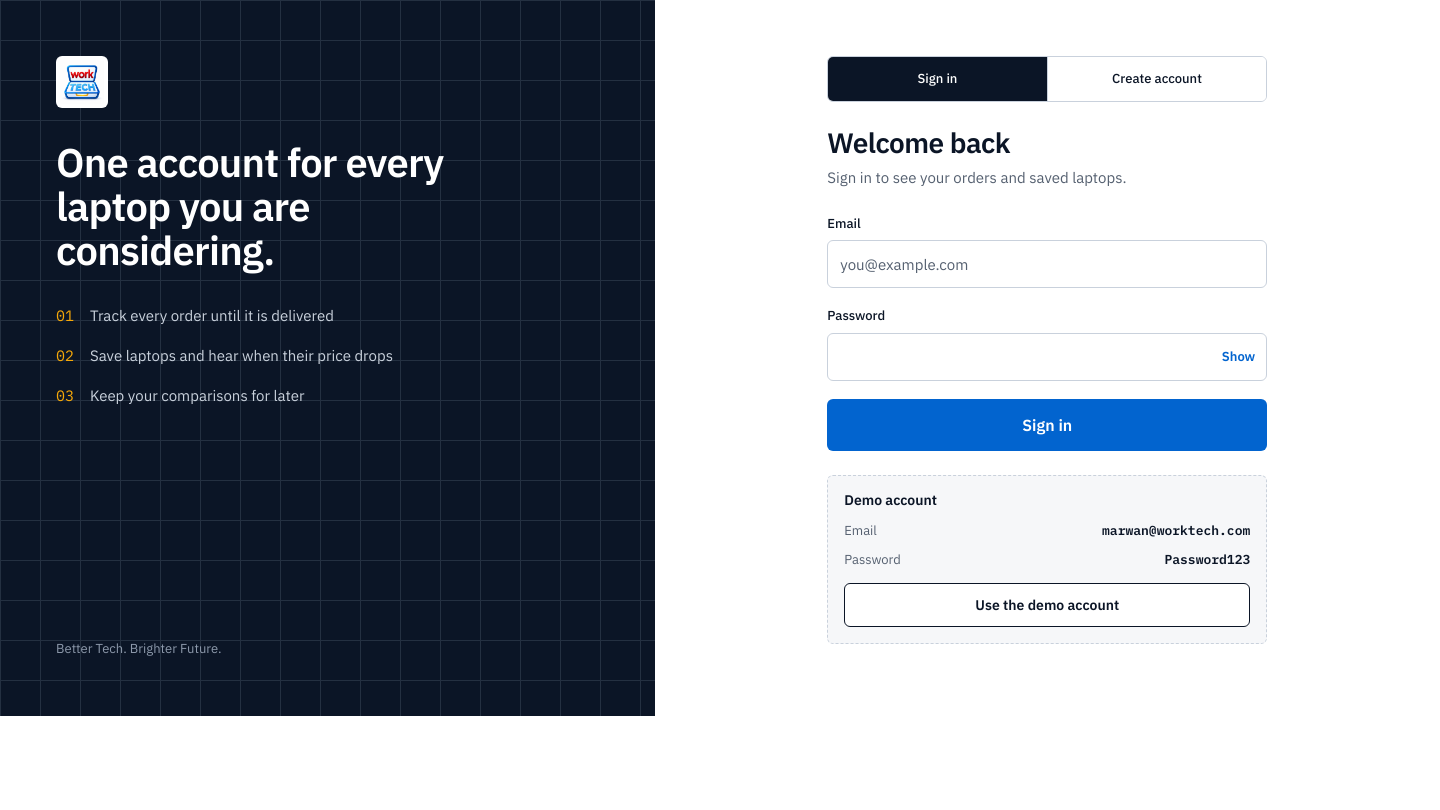
it: sign in › refuses wrong credentials until they change
In the field labelled "Email": (1047, 264) [827, 240, 1267, 288], type "marwan@worktech.com"
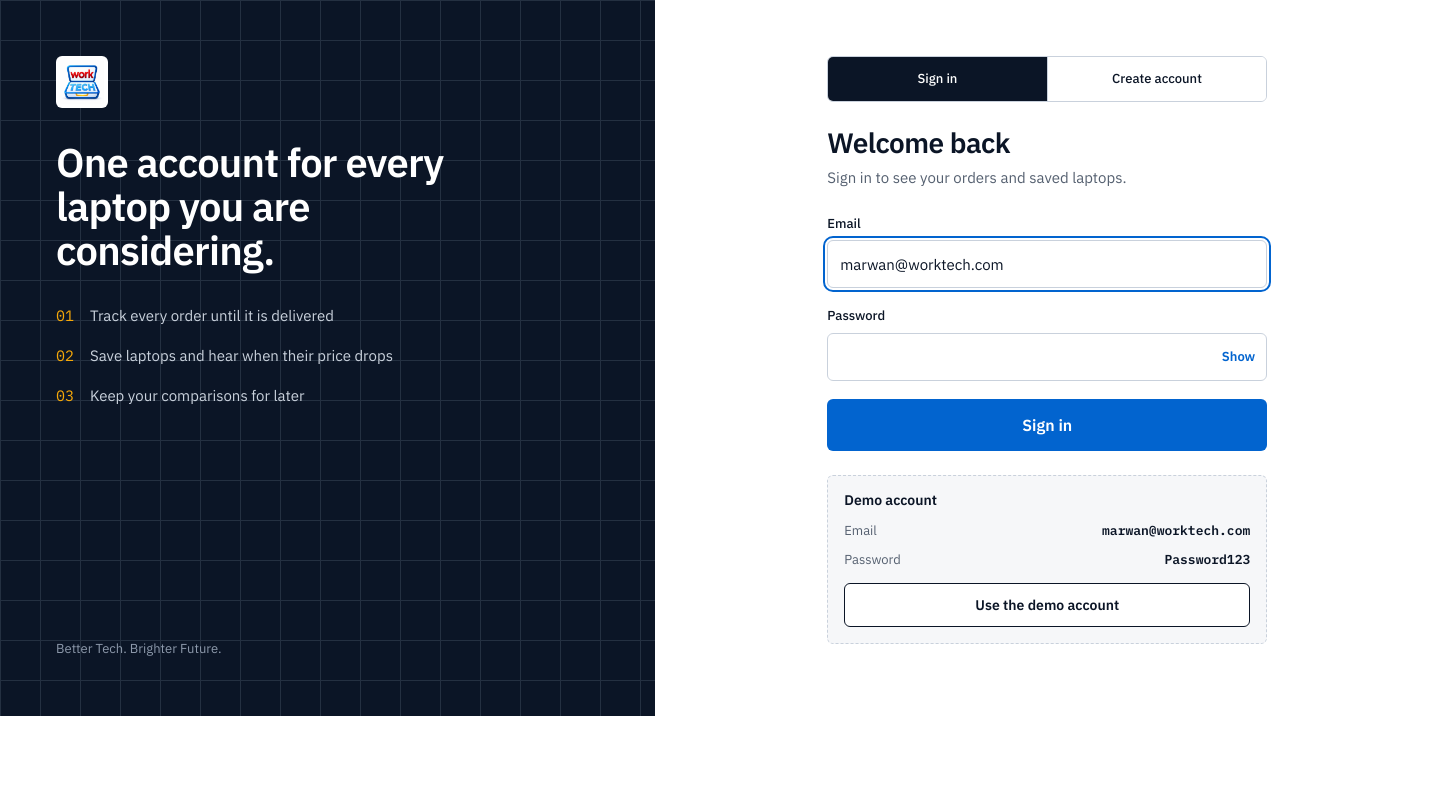
In the password field labelled "Password": (1047, 357) [827, 333, 1267, 381], type "wrong"
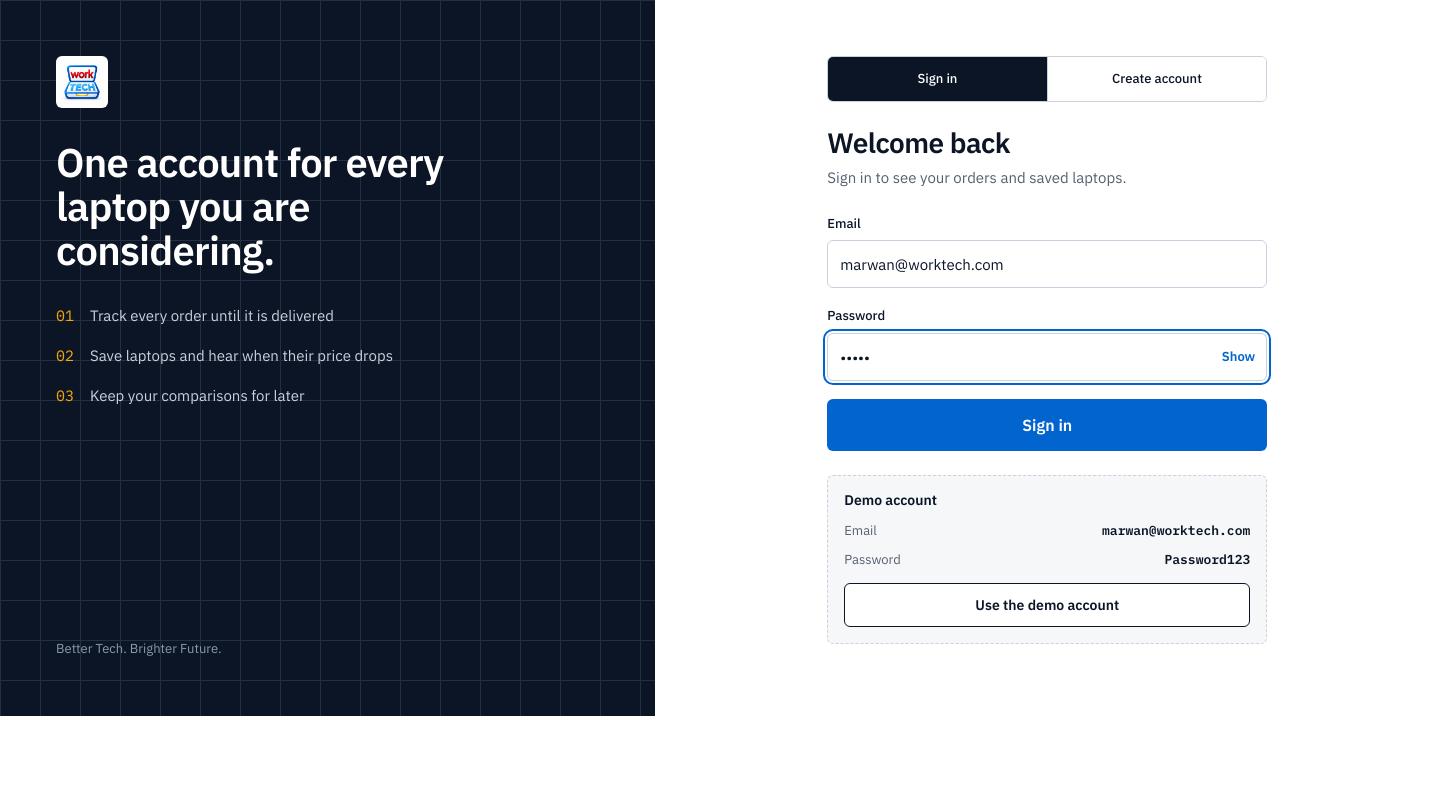
Click the button "Sign in": (1047, 425) [827, 399, 1267, 451]
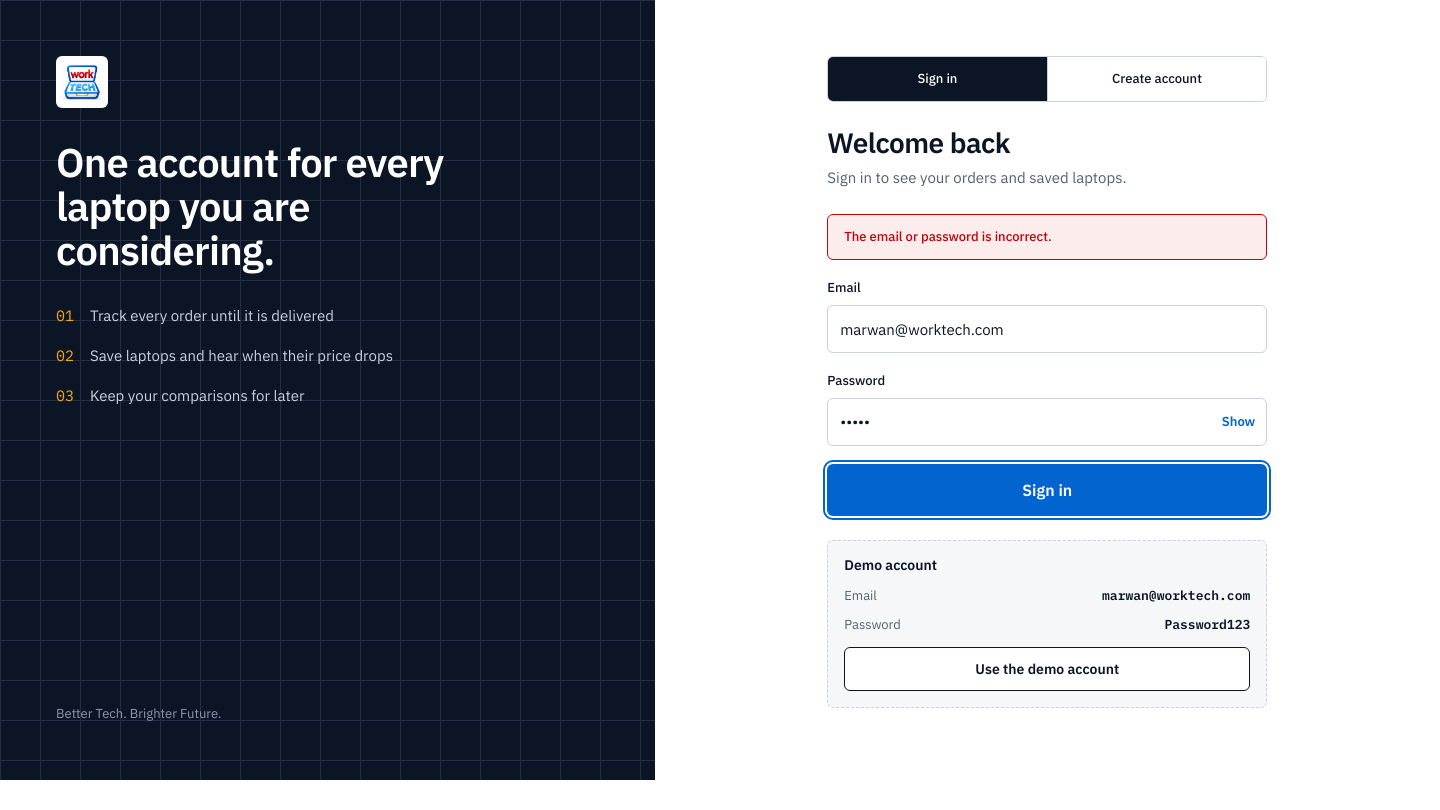
Expected: the message reads "The email or password is incorrect.", [844, 228, 1052, 245]
In the password field labelled "Password": (1047, 422) [827, 398, 1267, 446], type "1"
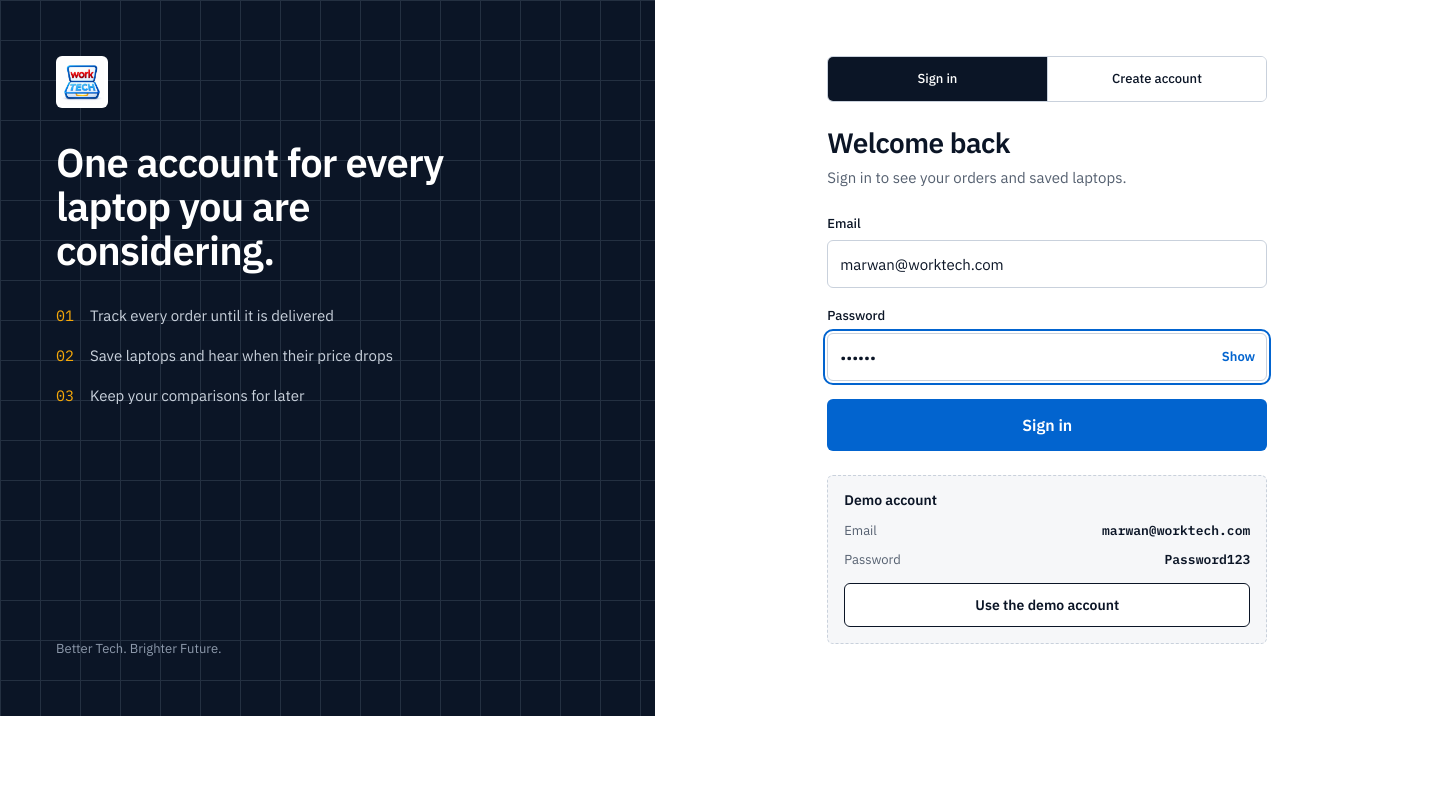
Expected: the message "The email or password is incorrect." is gone
